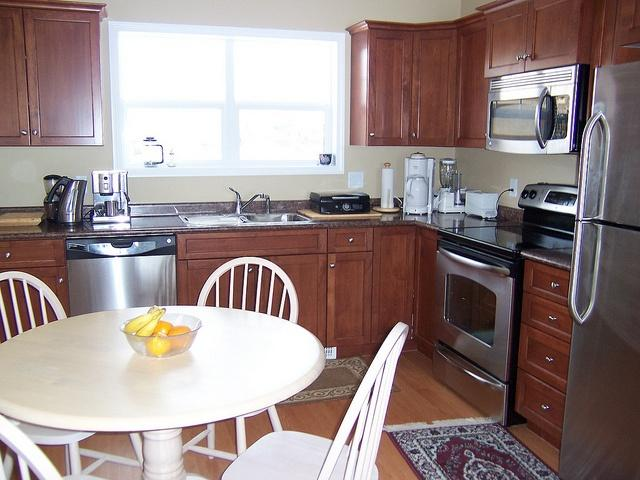Kursi: (218, 320, 408, 479)
Lemari: (364, 15, 491, 148), (0, 3, 103, 145)
Meja: (0, 301, 327, 445)
